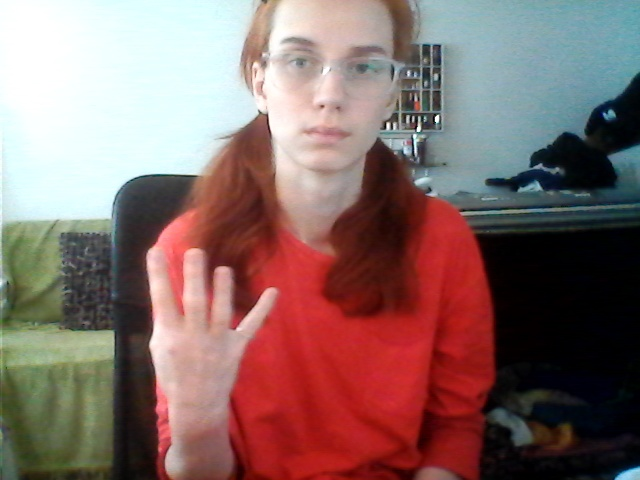kedy: (127, 245, 284, 415)
